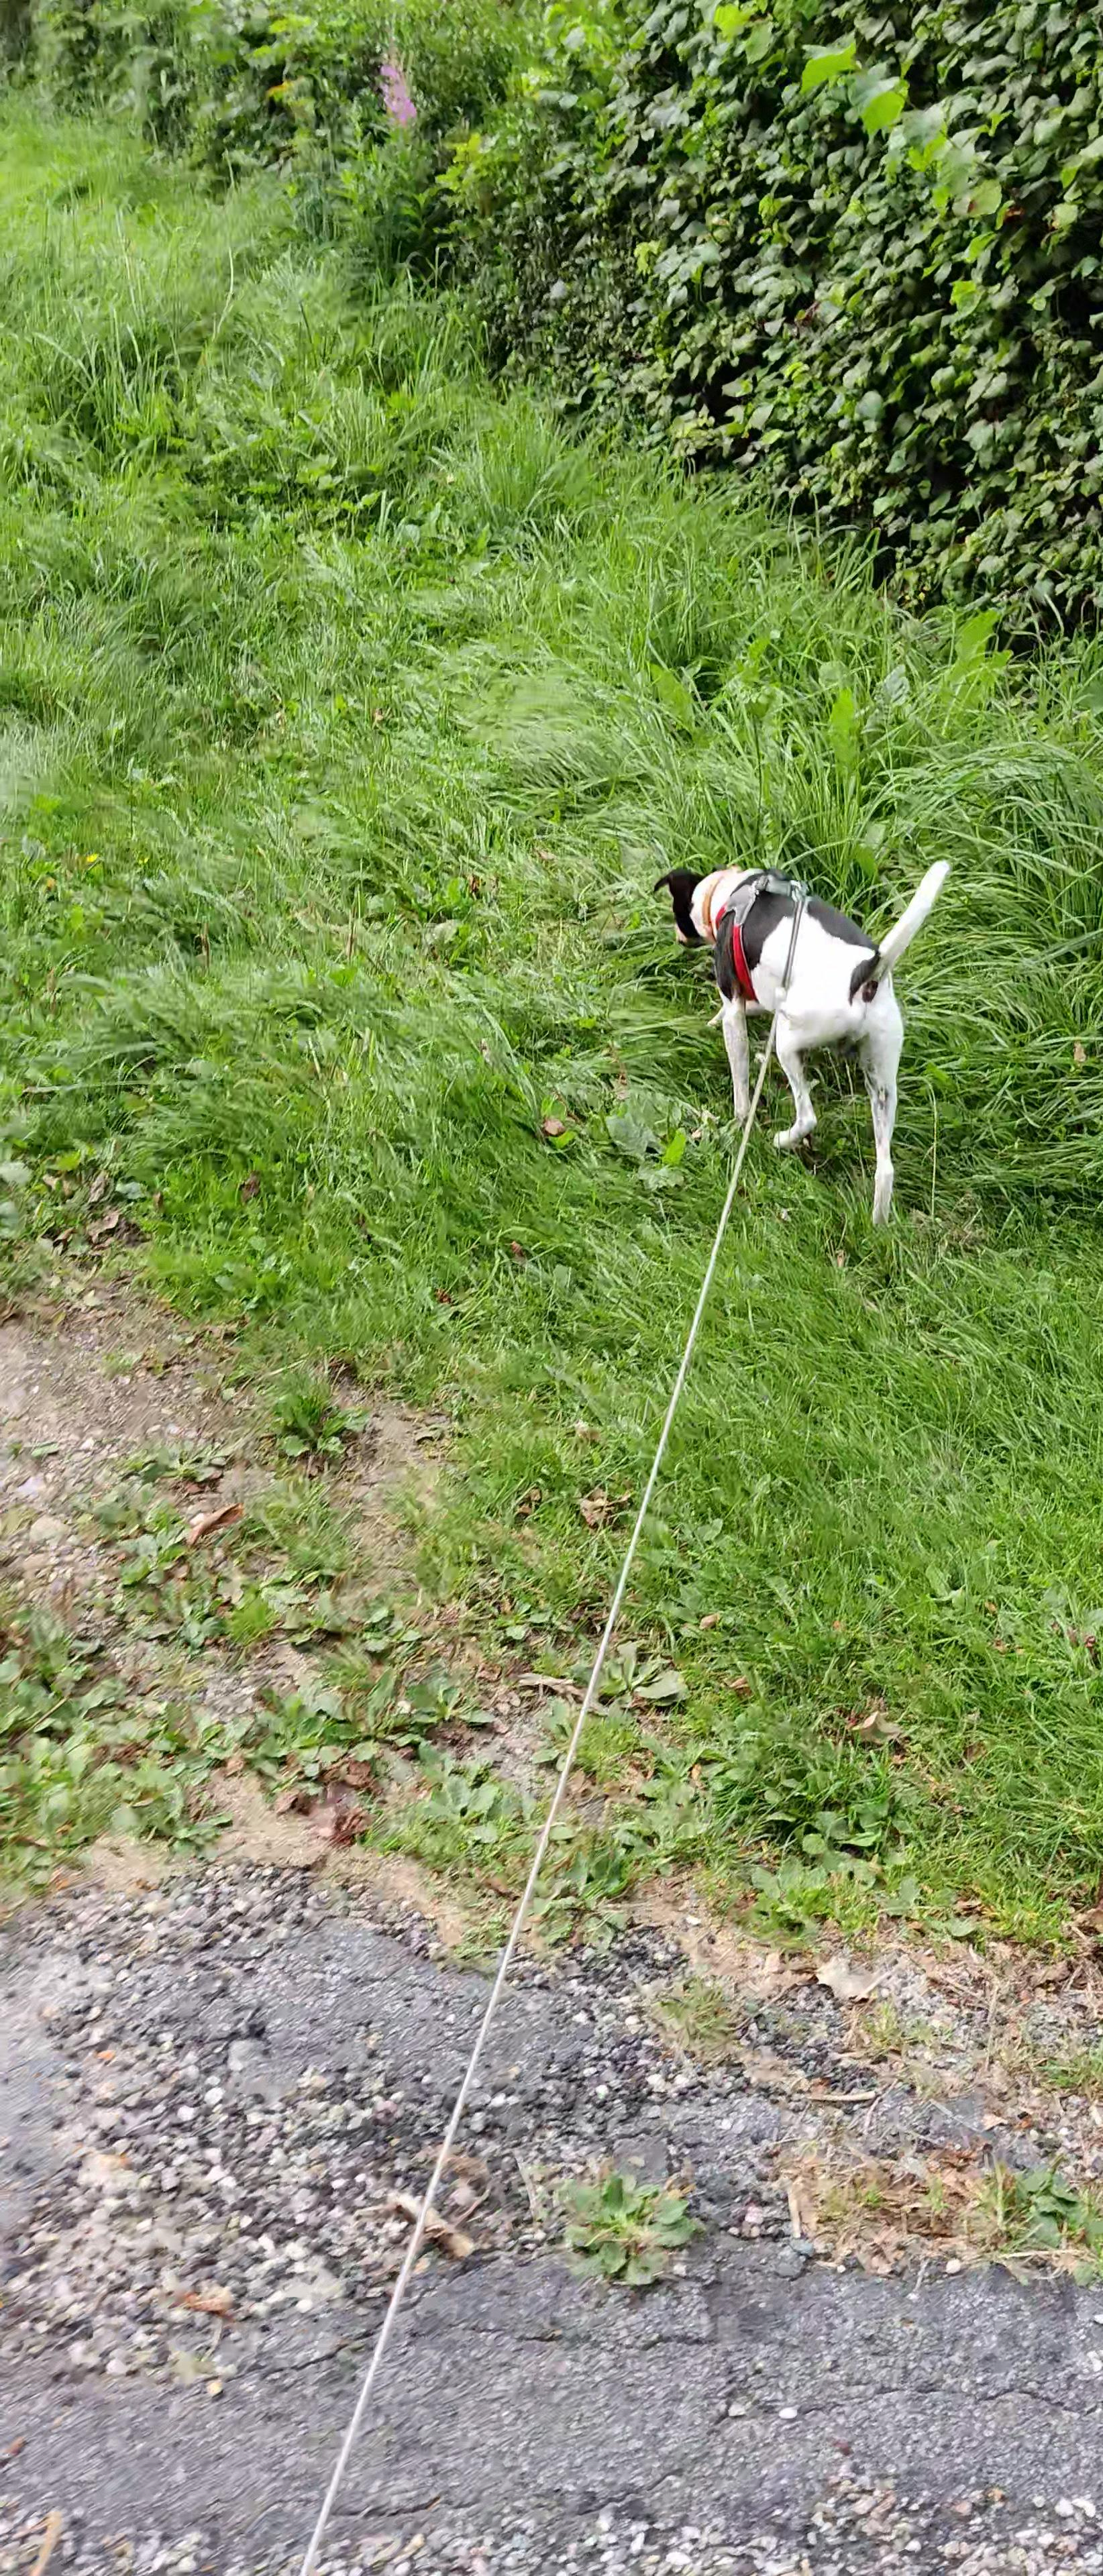Dog: (644, 835, 962, 1229)
